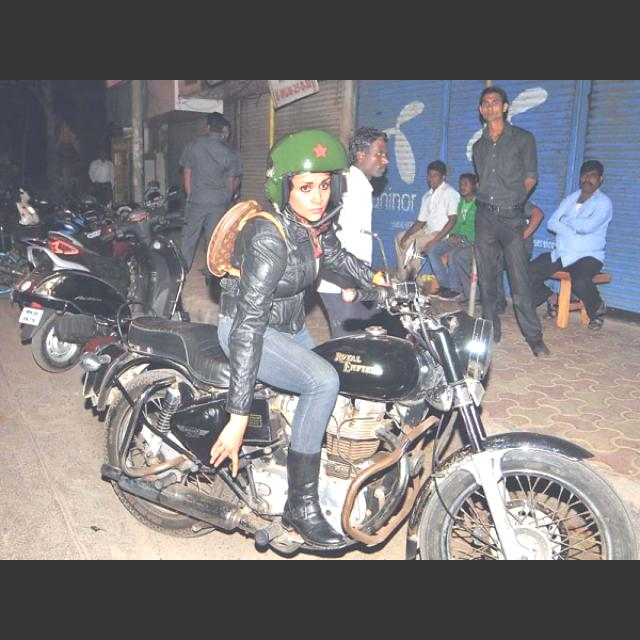With Helmet: (262, 120, 358, 228)
